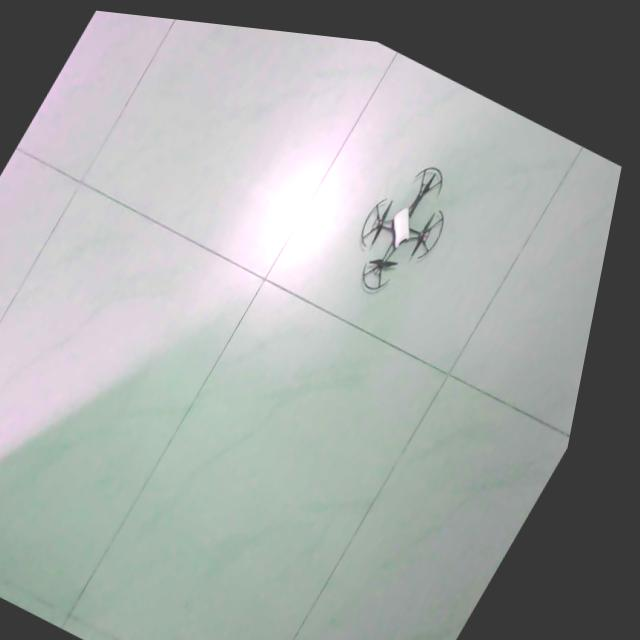drone: (368, 156, 451, 281)
